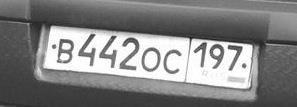license-plateSW: (43, 25, 256, 92)
